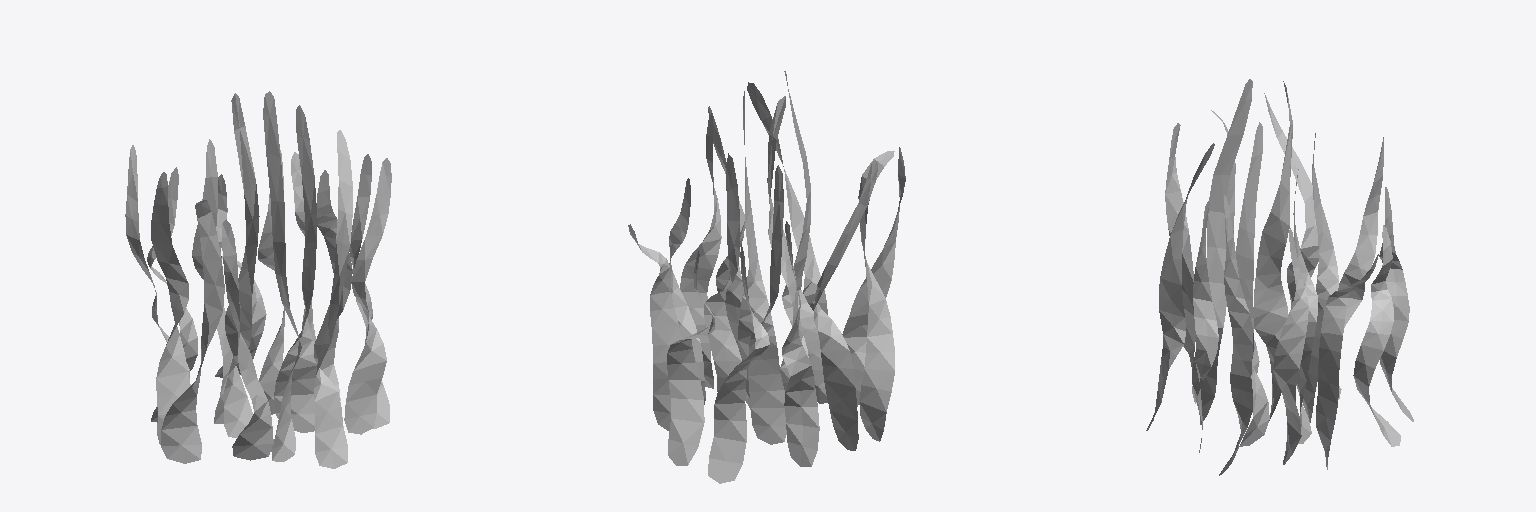
Rendered from Plant_001_low.obj.
3 renders of one model, left to right at view 1: azimuth 30°, elevation 25°; view 2: azimuth 150°, elevation 25°; view 3: azimuth 270°, elevation 25°, orthographic.
Visible parts, largest first — view 1: Plane; view 2: Plane; view 3: Plane.
Boxes of the visible parts, <box> form: Plane: <box>125,91,391,468</box>; Plane: <box>628,71,905,483</box>; Plane: <box>1146,79,1413,475</box>.
Bounding box in the file's own units: 2.1 × 3.31 × 2.28.